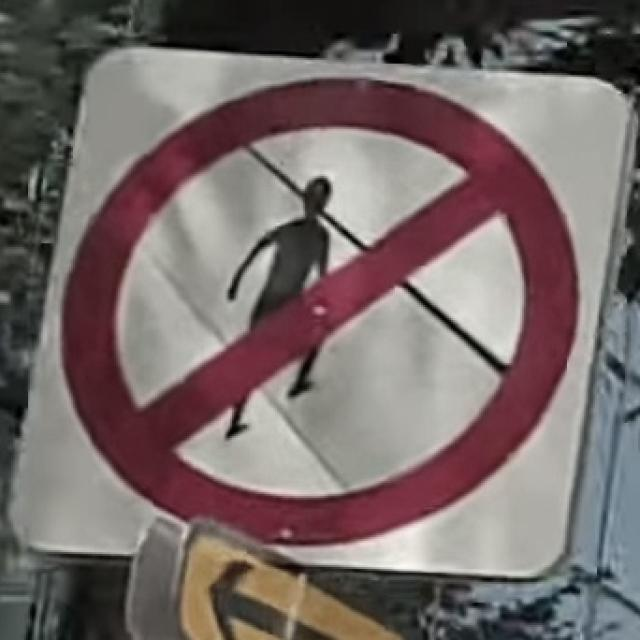nojaywalking_sign: (91, 66, 557, 550)
